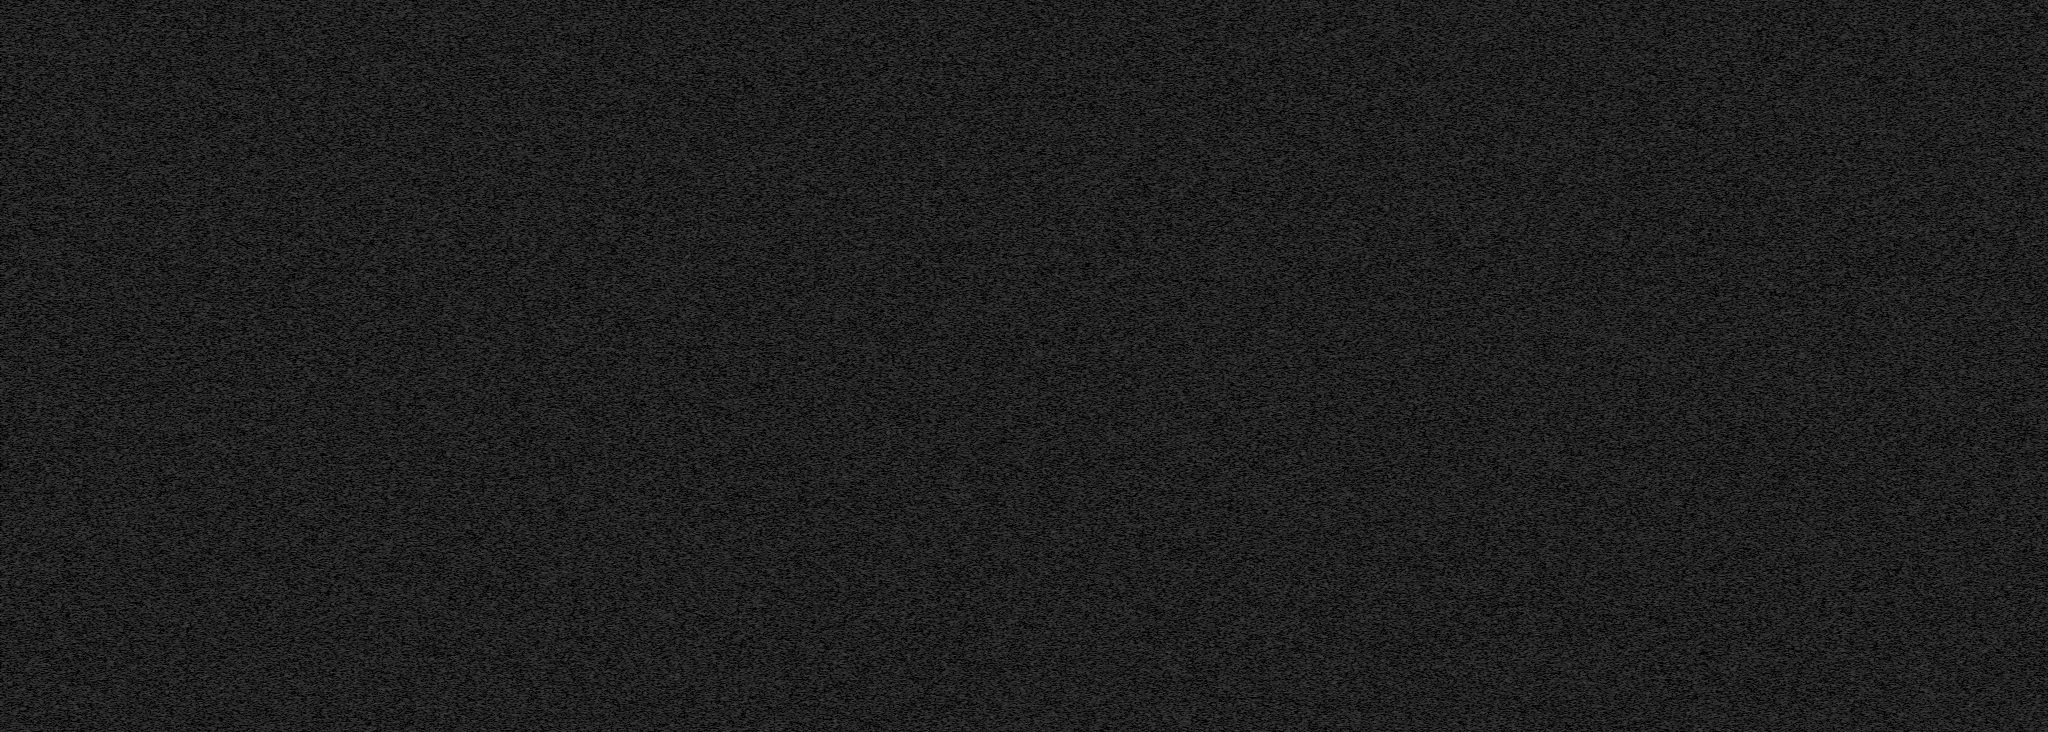wv_am: (1593, 400, 1600, 664), (1593, 0, 1599, 295), (1593, 665, 1600, 732), (1593, 352, 1600, 376), (1593, 378, 1600, 399), (1593, 329, 1600, 346), (1593, 308, 1600, 323), (1593, 295, 1600, 307), (1595, 348, 1599, 352), (1595, 324, 1599, 328)
wv_cw: (1627, 0, 1633, 661), (1624, 0, 1627, 506), (1614, 667, 1644, 732), (1624, 512, 1627, 732)
wv_lsb: (1870, 495, 1876, 571), (1870, 12, 1876, 75), (1870, 135, 1876, 193), (1870, 383, 1876, 434), (1870, 640, 1876, 678), (1870, 580, 1876, 612), (1870, 195, 1876, 218), (1870, 237, 1876, 259), (1870, 614, 1876, 635), (1054, 332, 1058, 359), (1870, 678, 1876, 695), (1054, 69, 1057, 103), (1870, 220, 1876, 235), (1870, 718, 1876, 732), (1870, 357, 1876, 371), (1870, 695, 1876, 708), (1870, 120, 1876, 133), (1870, 106, 1876, 119), (1870, 91, 1876, 105), (1870, 452, 1876, 464), (1870, 76, 1876, 88), (1870, 373, 1876, 382), (1870, 708, 1876, 716), (1054, 125, 1057, 139), (1054, 48, 1057, 61), (1054, 110, 1057, 122), (1870, 5, 1876, 10), (1053, 682, 1058, 688), (1870, 485, 1874, 491), (1870, 576, 1876, 580), (1870, 573, 1876, 576), (1870, 299, 1874, 305), (1054, 323, 1057, 331), (1053, 616, 1058, 620), (1054, 392, 1057, 400), (1054, 689, 1057, 695), (1054, 672, 1057, 678), (1054, 654, 1057, 660), (1054, 621, 1057, 627), (1054, 474, 1057, 481), (1870, 637, 1874, 640), (1870, 471, 1874, 474), (1870, 438, 1874, 442), (1870, 346, 1874, 350), (1054, 706, 1057, 711), (1054, 371, 1057, 375), (1870, 448, 1874, 451), (1870, 281, 1874, 284), (1054, 719, 1057, 722), (1054, 362, 1057, 365), (1054, 265, 1057, 268)
wv_usb: (1710, 271, 1715, 583), (1710, 5, 1715, 77), (1710, 584, 1715, 648), (1590, 567, 1595, 618), (1499, 637, 1505, 685), (1499, 550, 1505, 593), (1590, 48, 1595, 90), (1710, 691, 1715, 732), (1710, 139, 1715, 171), (1590, 699, 1595, 731), (1590, 13, 1595, 42), (1499, 603, 1505, 627), (1590, 661, 1595, 684), (1590, 620, 1595, 640), (1499, 515, 1505, 535), (1499, 480, 1505, 499), (1590, 271, 1593, 297), (1710, 173, 1715, 192), (1711, 193, 1715, 216), (1590, 319, 1593, 339), (1711, 118, 1715, 137), (1499, 708, 1505, 722), (1499, 501, 1505, 514), (1590, 108, 1593, 125), (1590, 91, 1593, 108), (1499, 689, 1505, 701), (1590, 163, 1593, 179), (1711, 669, 1715, 684), (1590, 640, 1595, 651), (1590, 218, 1595, 229), (1590, 131, 1593, 144), (1499, 629, 1505, 637), (1590, 238, 1593, 248), (1710, 655, 1715, 663), (1590, 652, 1593, 661), (1499, 702, 1505, 708), (1499, 595, 1505, 601), (1499, 536, 1505, 542), (1591, 353, 1593, 366), (1711, 256, 1714, 269), (1711, 88, 1714, 101), (1590, 684, 1593, 691), (1591, 298, 1593, 310), (1499, 544, 1505, 549), (1711, 244, 1714, 255), (1711, 101, 1714, 111), (1499, 725, 1503, 732), (1590, 230, 1593, 237), (1590, 210, 1593, 217), (1711, 78, 1715, 85), (1499, 722, 1505, 725), (1499, 473, 1505, 477), (1499, 461, 1505, 465), (1590, 312, 1593, 318), (1590, 258, 1593, 263), (1590, 43, 1595, 47), (1711, 684, 1714, 691), (1591, 264, 1593, 271), (1591, 251, 1593, 258), (1591, 156, 1593, 162), (1711, 234, 1714, 241), (1711, 221, 1714, 227), (1590, 125, 1593, 129), (1711, 650, 1715, 654), (1711, 112, 1715, 116), (1591, 150, 1593, 156), (1591, 501, 1593, 505), (1591, 484, 1593, 488), (1591, 410, 1593, 414), (1591, 382, 1593, 386), (1591, 346, 1593, 350), (1591, 339, 1593, 342), (1591, 186, 1593, 190), (1591, 182, 1593, 186), (1591, 145, 1593, 149), (1711, 229, 1714, 233), (1591, 444, 1593, 447), (1591, 205, 1593, 208), (1591, 193, 1593, 196)
